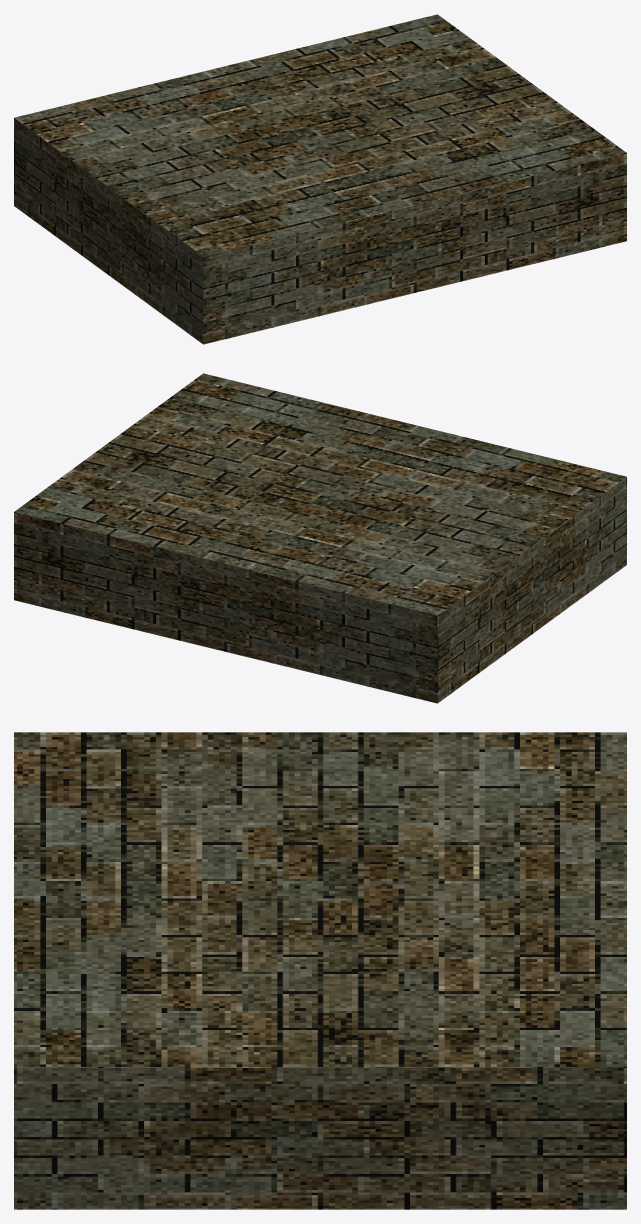
Rendered from platform.glb.
3 views of the same model, one above another, from view 1: azimuth 30°, elevation 25°; view 2: azimuth 150°, elevation 25°; view 3: azimuth 270°, elevation 25° (orthographic). The views are drawn at different scales.
Visible parts, largest first — view 1: Cube; view 2: Cube; view 3: Cube.
Part boxes in pixels (<box>): Cube: <box>14,14,626,344</box>; Cube: <box>14,373,626,703</box>; Cube: <box>14,732,626,1209</box>.
Size of the model in its own units: 16.33 by 3.25 by 12.65.
Materials: 1 (1 with a texture image).
